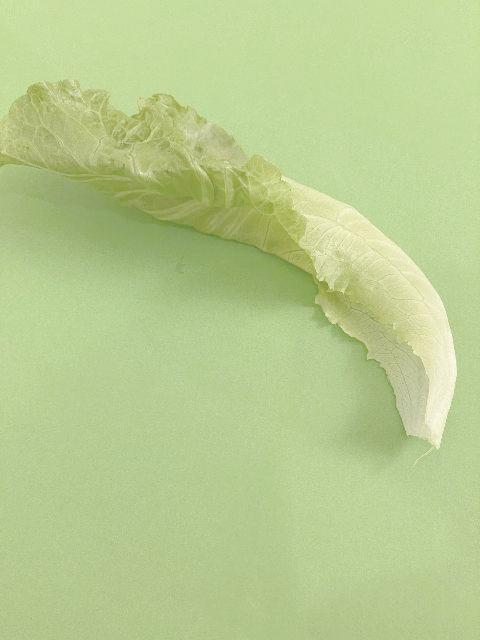lettuce: (0, 78, 460, 448)
